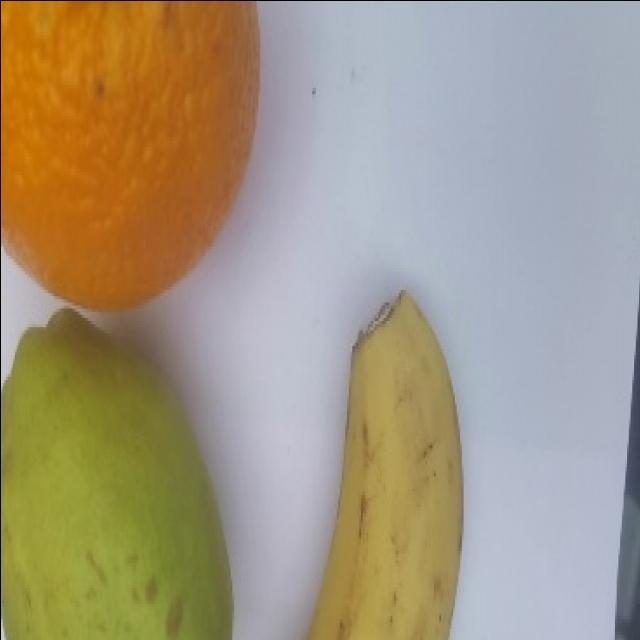Banana: (304, 289, 467, 640)
Orange: (0, 0, 266, 322)
